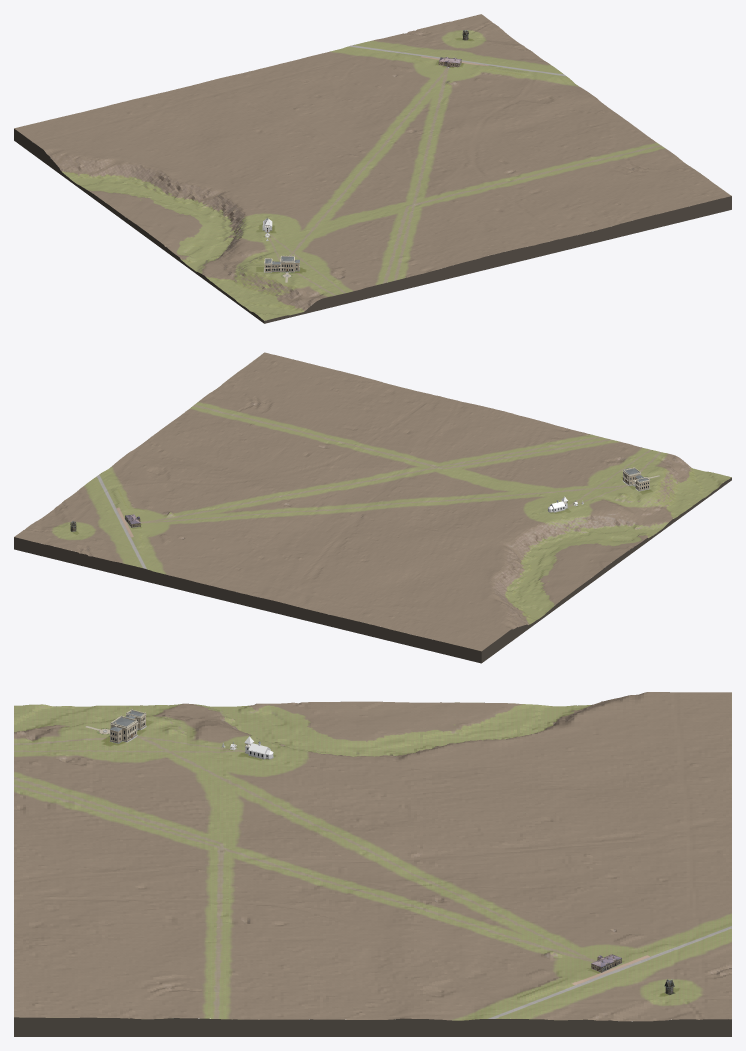
Rendered from stoties_zona.glb.
The picture shows the model from 3 angles, top to bottom: view 1: azimuth 30°, elevation 25°; view 2: azimuth 150°, elevation 25°; view 3: azimuth 270°, elevation 25°; orthographic projection. The views are drawn at different scales.
Parts seen in each view (by area): view 1: reljefas_mini, sonai, b_klubas_terasa; view 2: reljefas_mini, sonai, b_klubas_terasa; view 3: reljefas_mini, sonai, b_klubas_terasa.
Boxes of the visible parts, x1,y1,x2,y2 form: reljefas_mini: [14, 14, 731, 320]; sonai: [14, 128, 731, 323]; b_klubas_terasa: [263, 30, 468, 282]; reljefas_mini: [14, 352, 731, 651]; sonai: [14, 477, 731, 663]; b_klubas_terasa: [70, 467, 659, 531]; reljefas_mini: [14, 692, 731, 1021]; sonai: [14, 692, 731, 1036]; b_klubas_terasa: [86, 709, 674, 994].
Bounding box in the file's own units: 685 × 34.2 × 635.
Materials: 61 (40 with a texture image).
